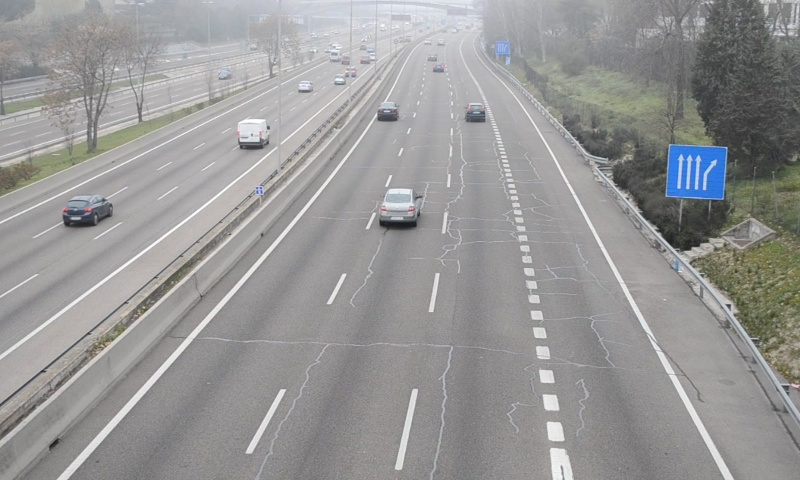car: (380, 188, 420, 224), (377, 101, 398, 121), (465, 103, 486, 122)
